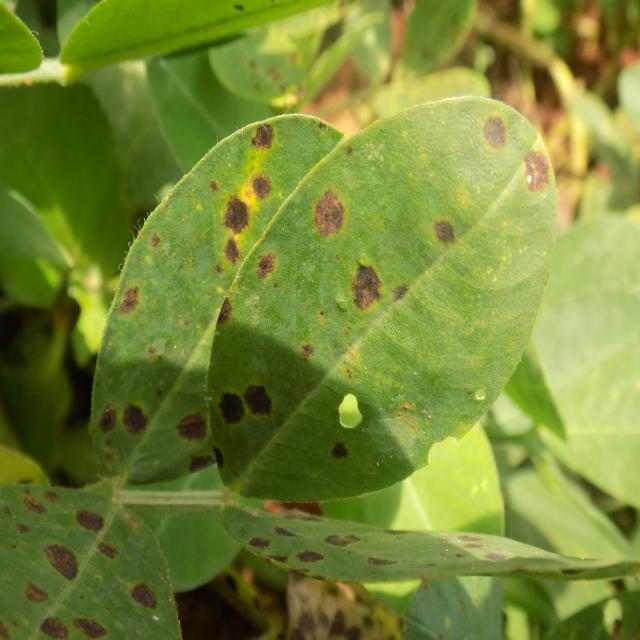Ground nut_tikka leaf spot: (209, 95, 556, 503), (83, 113, 367, 483)
